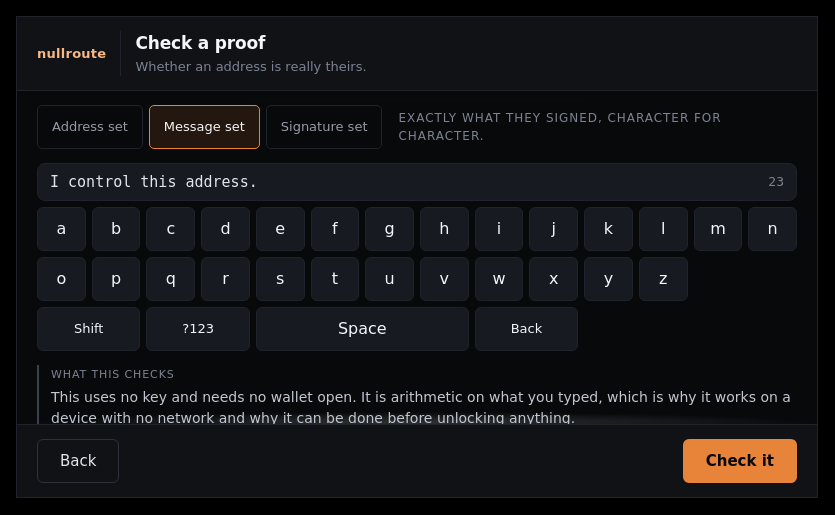
Test: VerifyMessageScreen › points-at-the-message-before-the-other-party
This screenshot has width=835, height=515.
Step 1. Click the button with test id "verify-run" → point(740, 461), box [683,439,797,483]
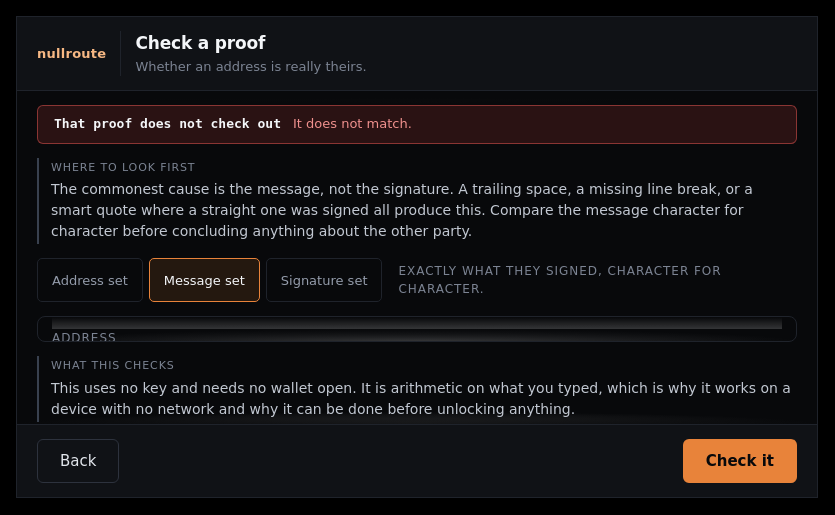
Expected: the element with test id "verify-usual-cause" is shown, [37,158,797,244]
Expected: the element with test id "verify-result" shows "It does not match.", [293,116,412,131]
Expected: the element with test id "verify-usual-cause" shows "The commonest cause is the message, not the signature", [51,181,753,239]
